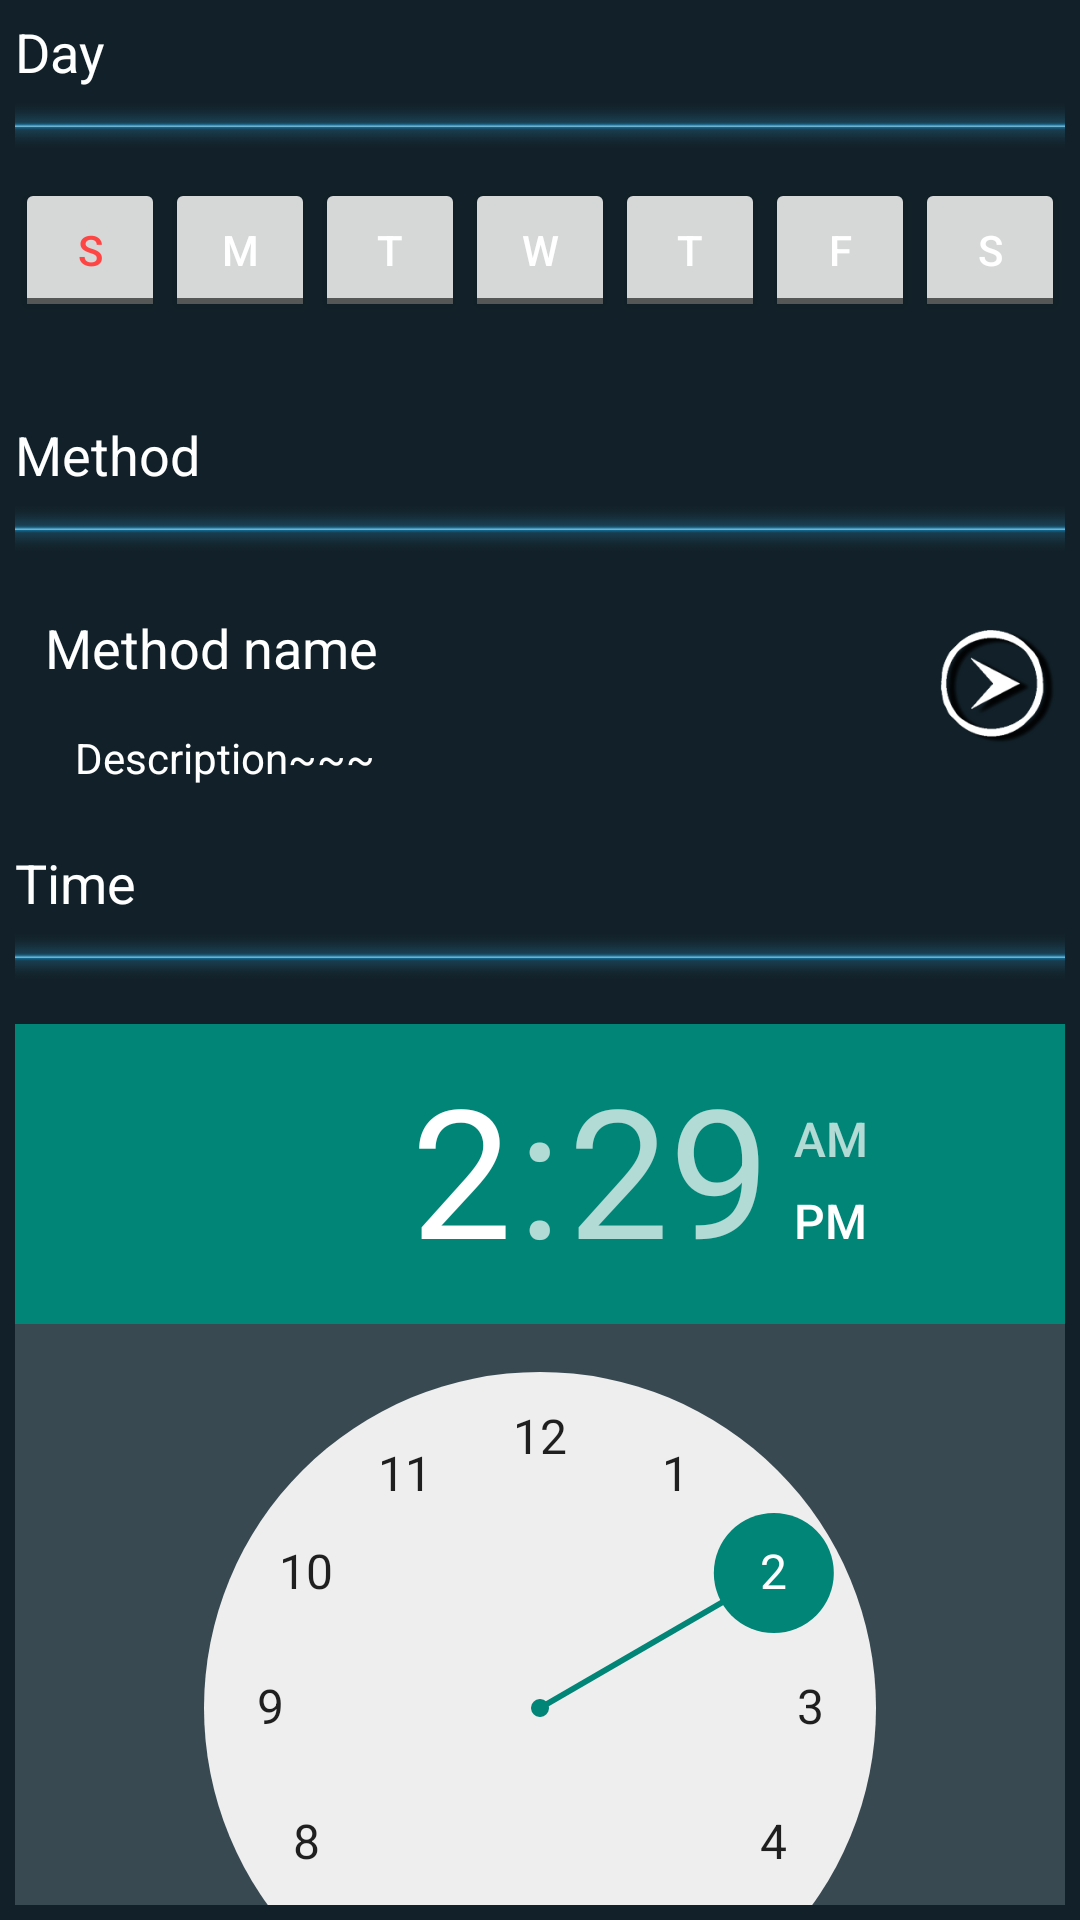

Icon bounding boxes for this 1080 x 1920 phone screenshot, format (x1, y1, x2, y2):
arrow: (941, 630, 1051, 740)
